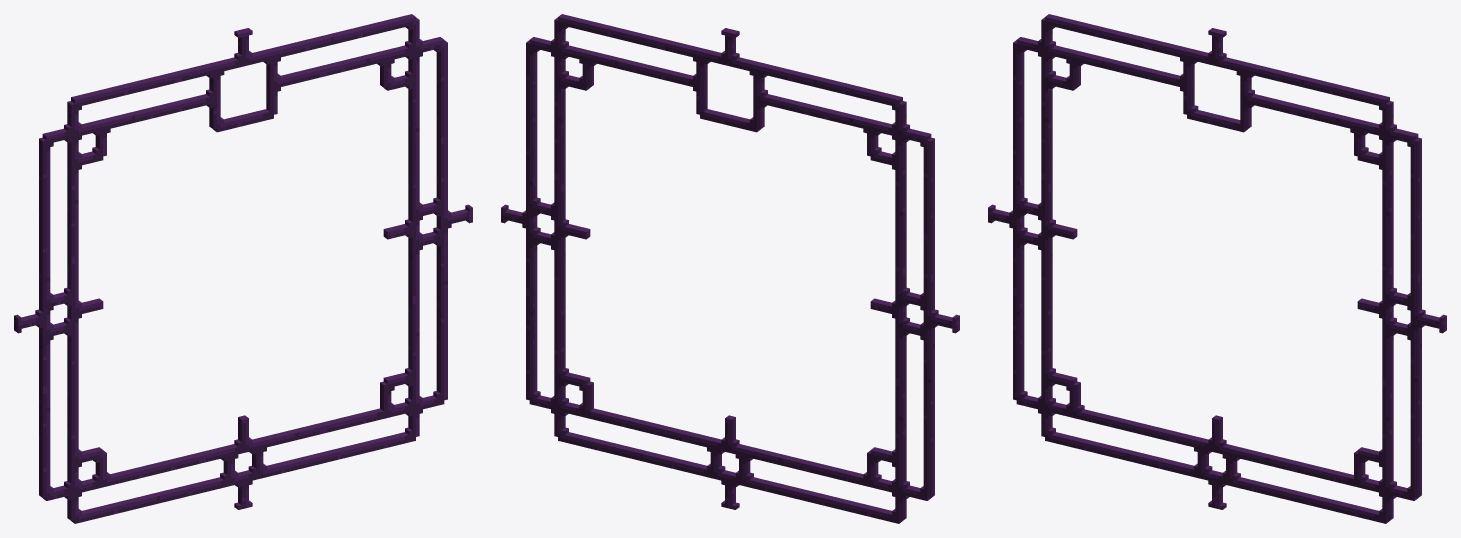
Rendered from clockfaceao.fezao.glb.
The picture shows the model from 3 angles, left to right: view 1: azimuth 30°, elevation 25°; view 2: azimuth 150°, elevation 25°; view 3: azimuth 330°, elevation 25°; orthographic projection.
Parts seen in each view (by area): view 1: CLOCKFACEAO; view 2: CLOCKFACEAO; view 3: CLOCKFACEAO.
Part boxes in pixels (x1=…): CLOCKFACEAO: x1=14, y1=14, x2=472, y2=523; CLOCKFACEAO: x1=501, y1=14, x2=959, y2=523; CLOCKFACEAO: x1=988, y1=14, x2=1446, y2=523.
Size of the model in its own units: 8 by 8 by 0.125.
Materials: 1 (1 with a texture image).
